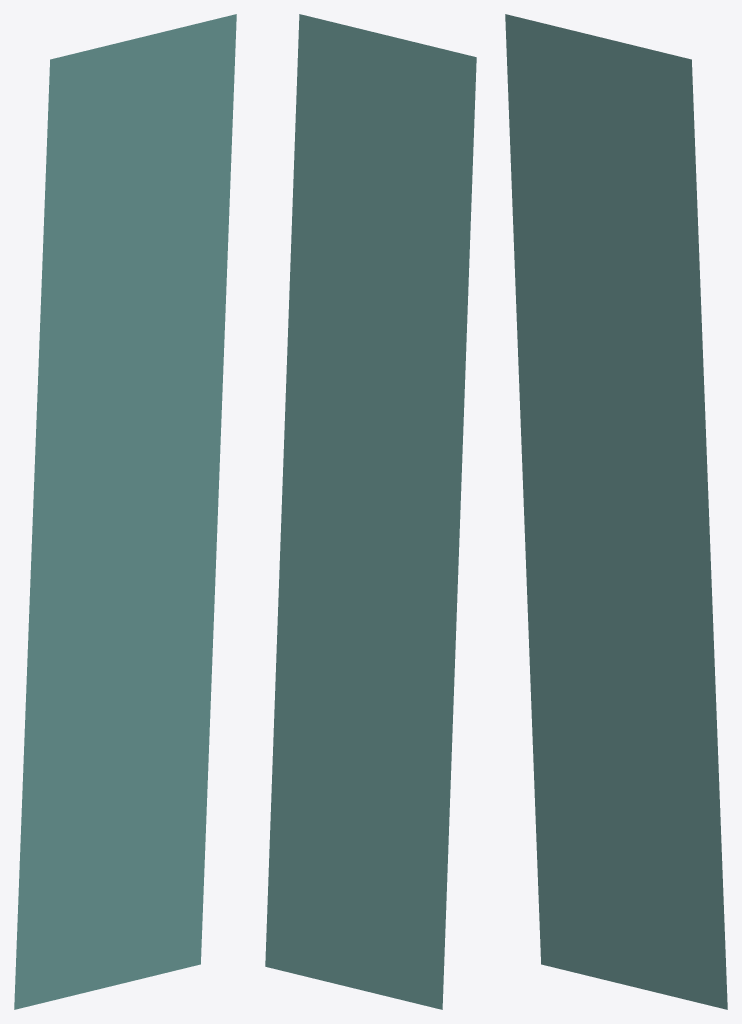
The model's file is waterfall_ribbon_12m.glb.
3 views of the same model, side by side, from view 1: azimuth 30°, elevation 25°; view 2: azimuth 150°, elevation 25°; view 3: azimuth 330°, elevation 25° (orthographic). The views are drawn at different scales.
Parts seen in each view (by area): view 1: water; view 2: water; view 3: water.
Part boxes in pixels (x1,y1,x2,y2): water: (14,14,236,1009); water: (265,14,476,1009); water: (505,14,727,1009).
Bounding box in the file's own units: 2.4 × 12 × 0.8.
